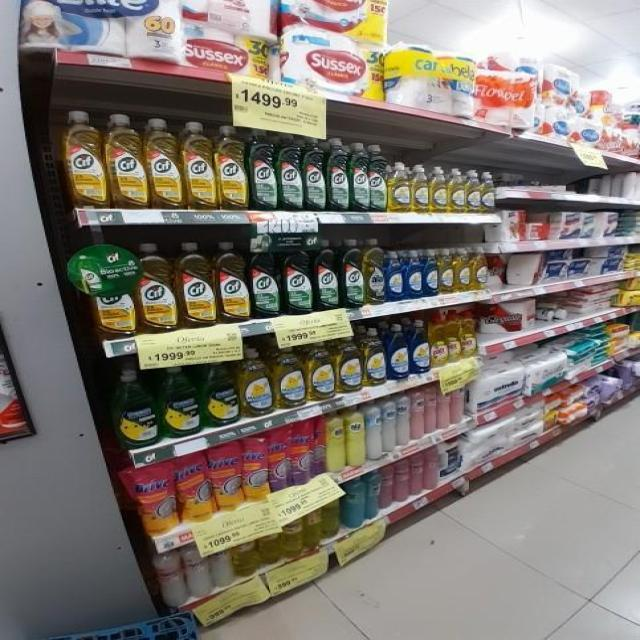ala_conc_amarillo: (363, 239, 384, 305)
ala_crem_amarillo: (325, 410, 345, 472), (346, 406, 364, 467)
ala_crem_blanco: (366, 402, 382, 462), (383, 397, 396, 454), (397, 392, 410, 447)
ala_crem_rosado: (411, 387, 425, 441)
cif_conc_bot_amarilla: (62, 109, 105, 209), (107, 113, 145, 210), (138, 242, 176, 333), (178, 240, 215, 328), (146, 117, 181, 210), (183, 121, 215, 211), (216, 124, 248, 211), (216, 240, 248, 323)
cif_conc_botella_verde: (250, 237, 280, 319), (248, 129, 276, 211), (283, 237, 312, 316), (278, 133, 302, 212), (314, 238, 338, 311), (303, 136, 325, 212), (327, 138, 349, 212), (340, 238, 362, 309), (368, 143, 387, 213), (350, 142, 368, 212)
drive: (128, 462, 175, 534), (178, 453, 210, 522), (211, 444, 241, 511), (243, 435, 268, 503)
magistral_con_amarillo: (240, 346, 272, 417), (274, 343, 304, 409), (306, 339, 334, 401), (335, 332, 362, 393), (363, 327, 386, 386), (388, 162, 410, 213), (430, 166, 447, 213), (412, 164, 428, 213), (454, 248, 471, 293), (448, 168, 465, 213), (439, 248, 454, 295), (472, 248, 488, 291), (481, 171, 496, 214), (466, 170, 480, 214)
magistral_con_azul: (387, 323, 408, 381), (410, 319, 430, 375), (385, 250, 403, 302), (404, 250, 423, 299), (423, 249, 438, 297)
